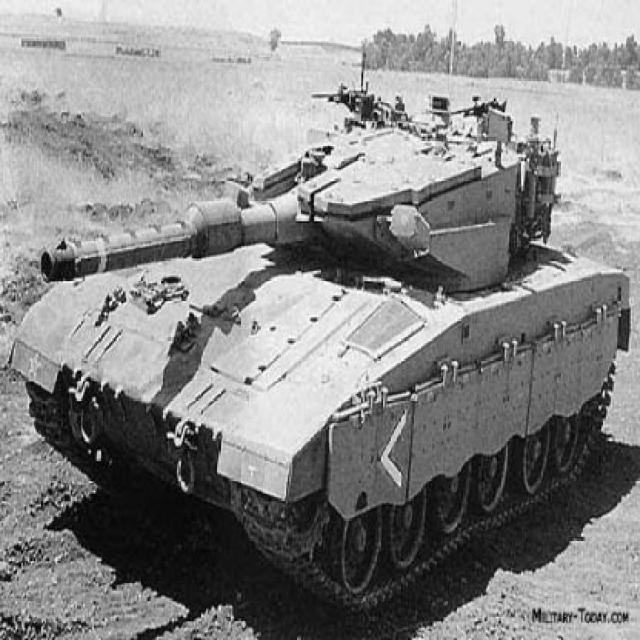Tank: (7, 79, 632, 615)
